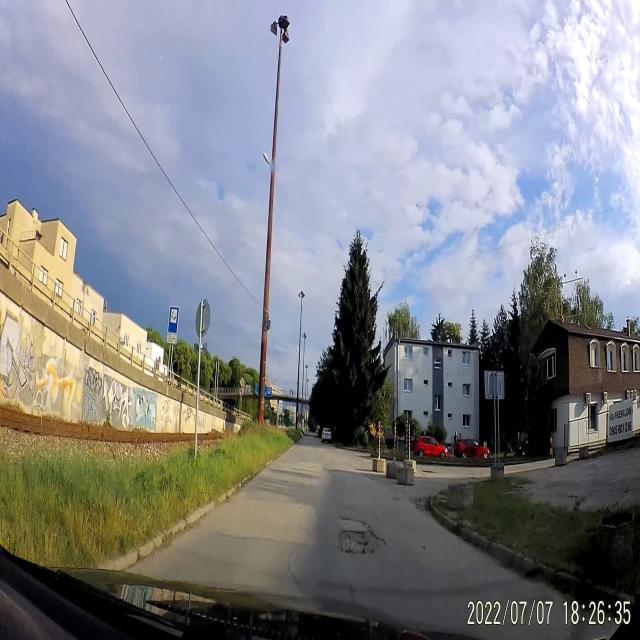Pothole: (332, 513, 388, 563), (391, 494, 400, 502)
